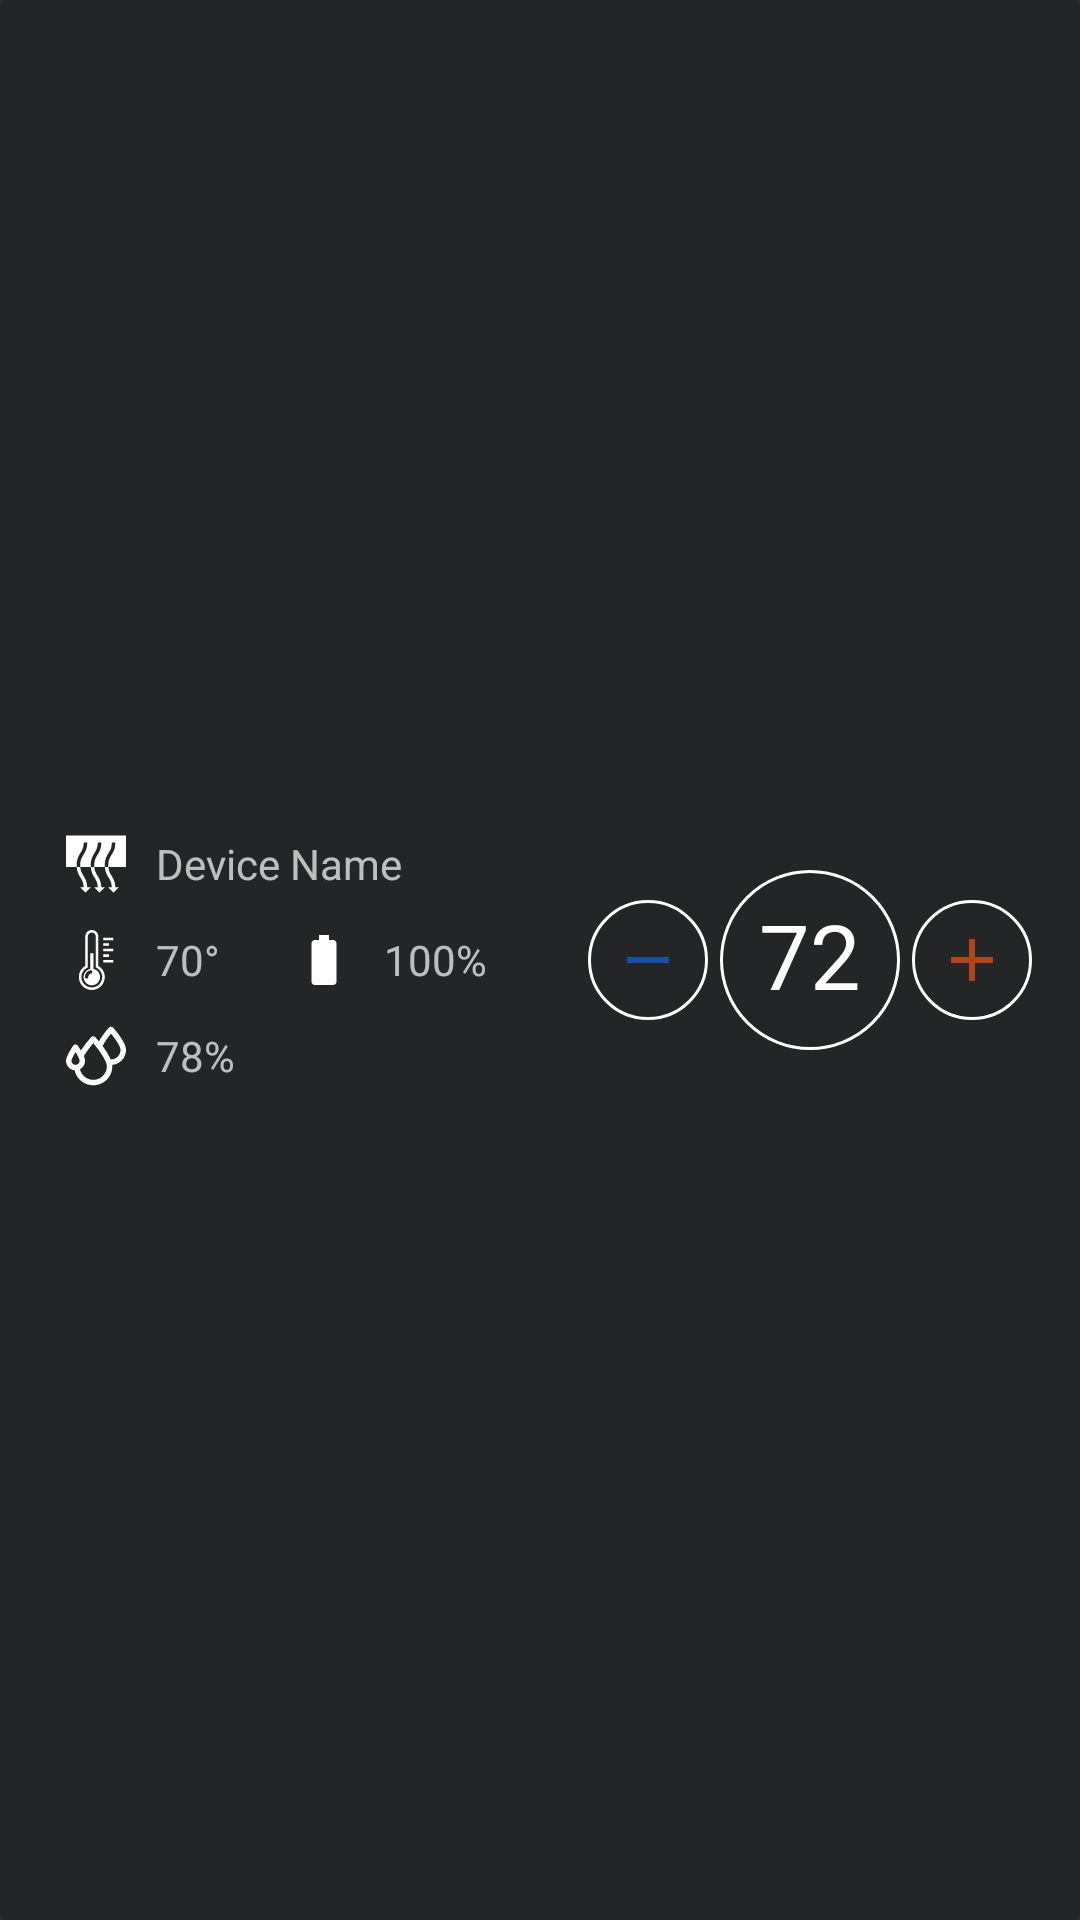

Named icons in this screenshot (1080w x 1920h) and their bounding boxes, {"x1": x1, "y1": y1, "x2": x2, "y2": y2}:
add: {"x1": 912, "y1": 900, "x2": 1032, "y2": 1020}
battery std: {"x1": 311, "y1": 935, "x2": 337, "y2": 985}
humidity: {"x1": 66, "y1": 1026, "x2": 126, "y2": 1086}
remove: {"x1": 588, "y1": 900, "x2": 708, "y2": 1020}
thermometer: {"x1": 79, "y1": 930, "x2": 114, "y2": 990}
vent: {"x1": 66, "y1": 835, "x2": 126, "y2": 893}
